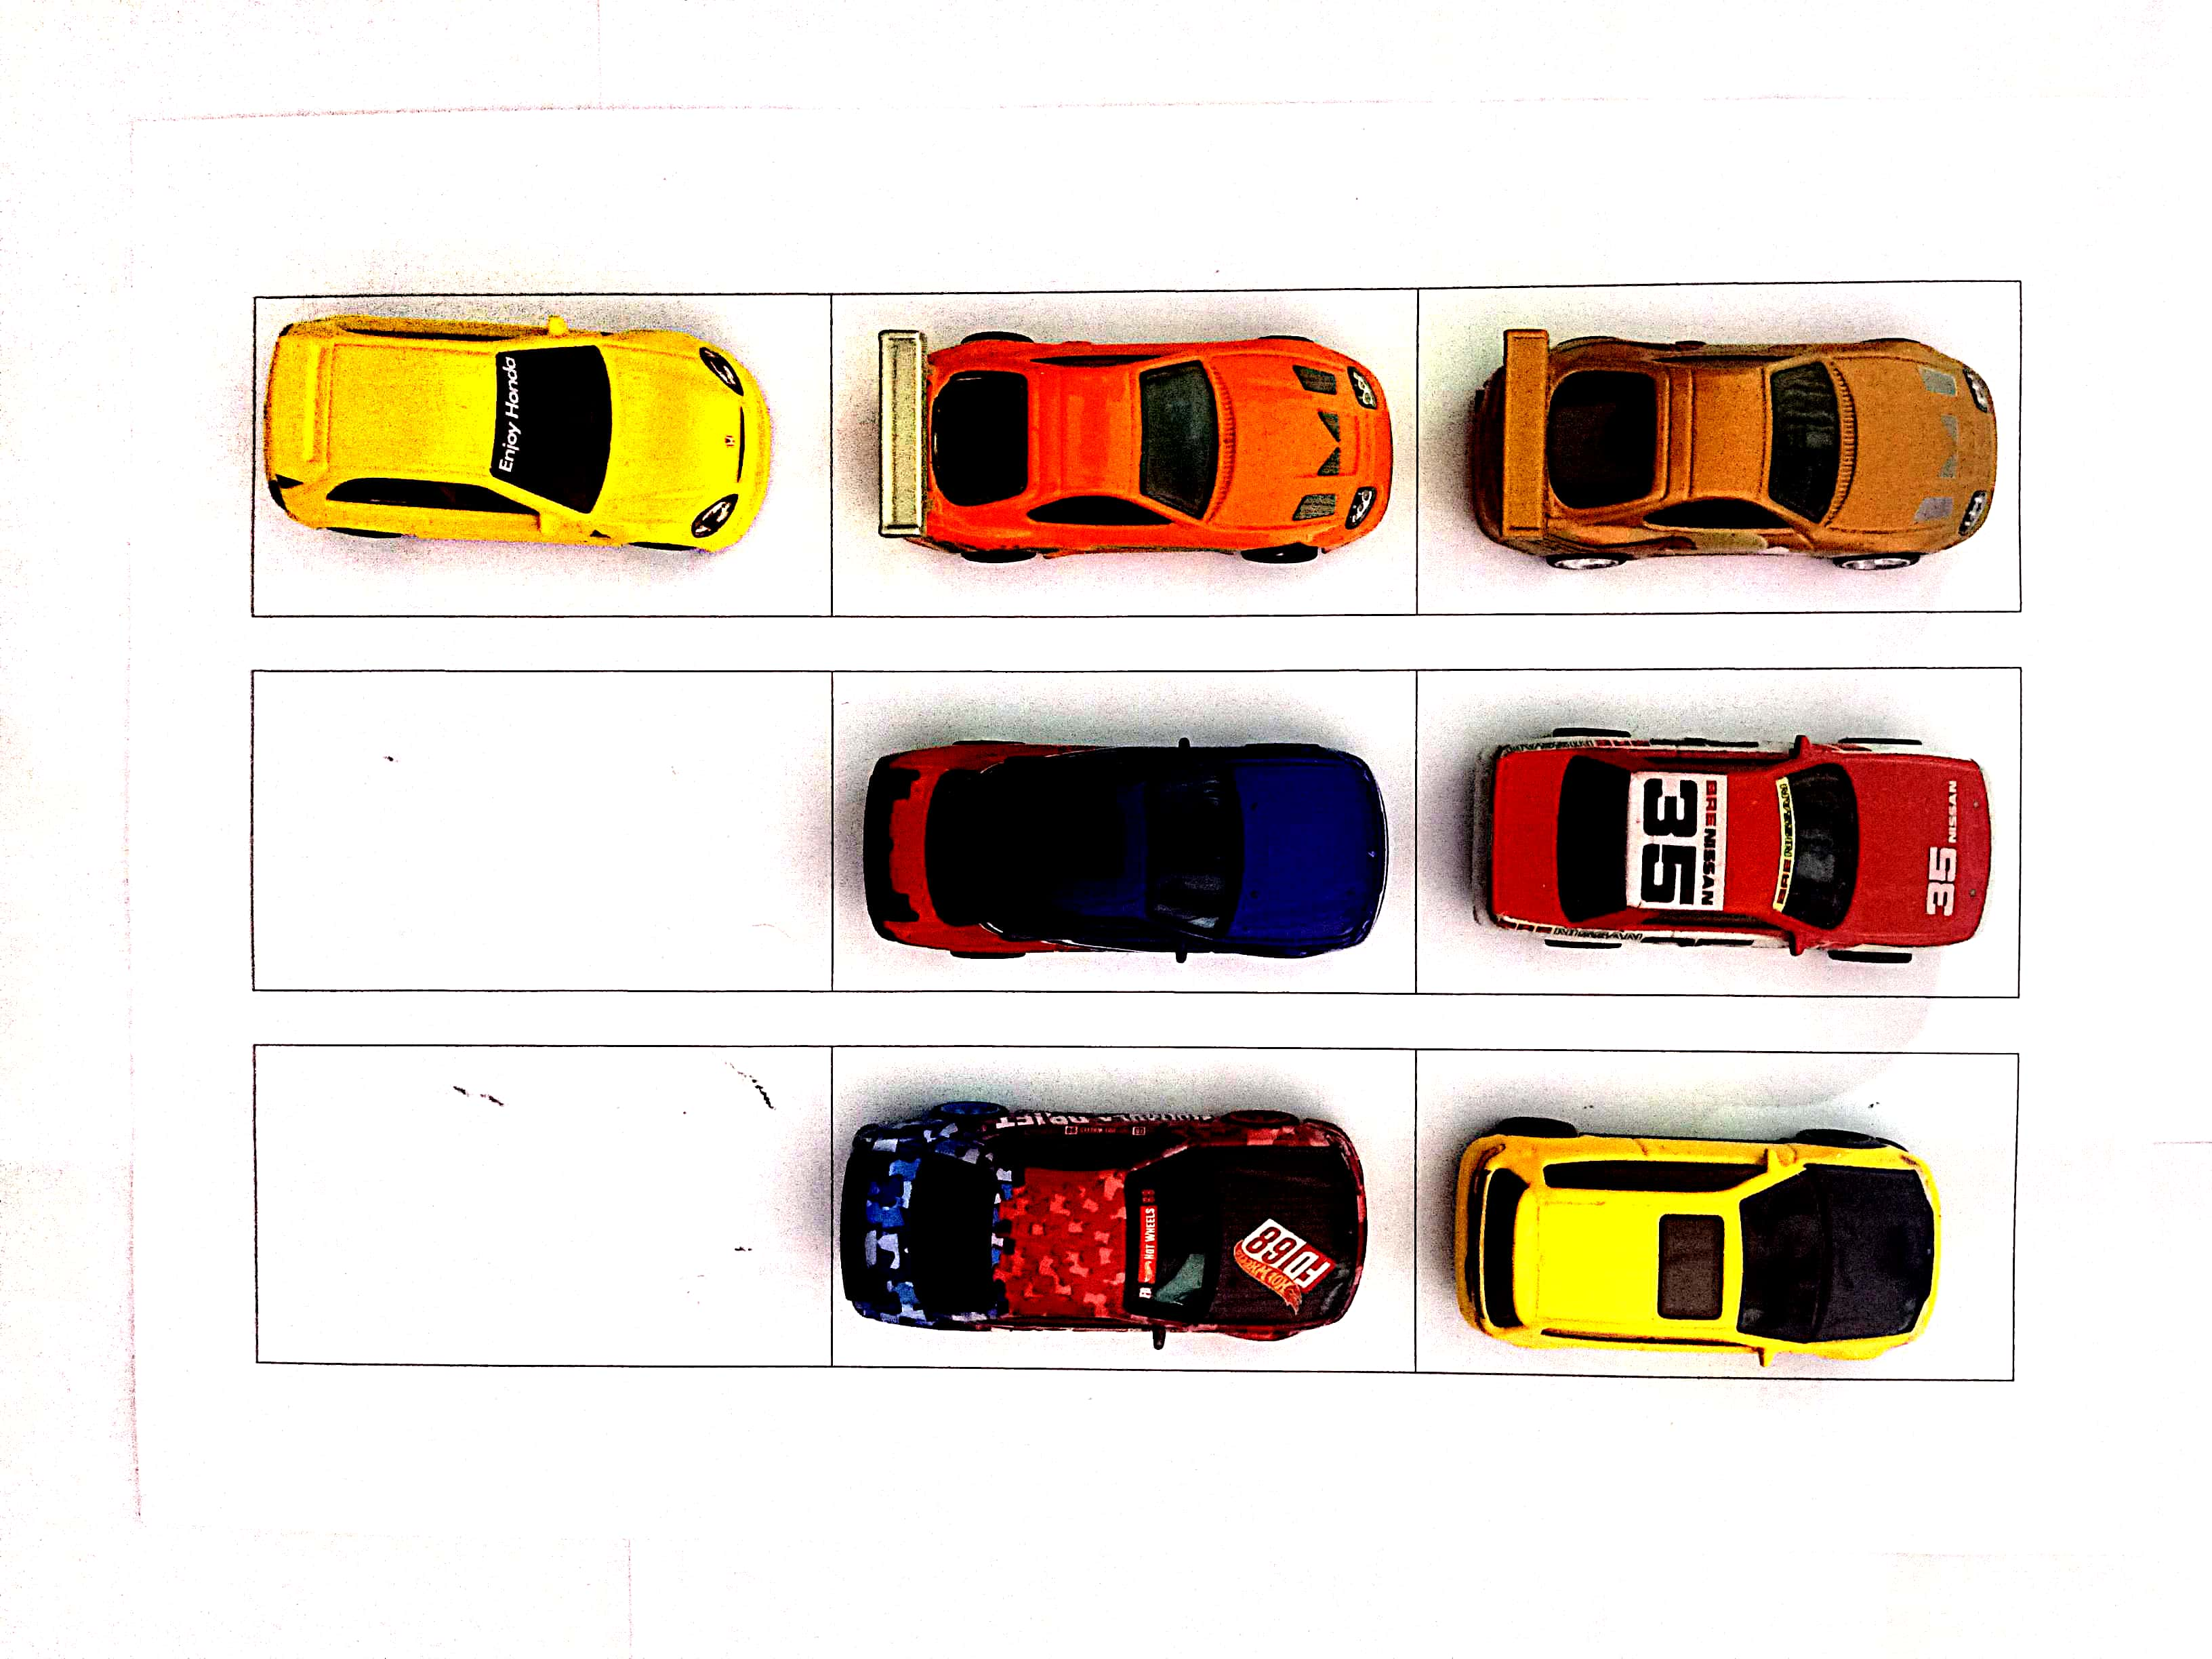Busy: (1414, 286, 2024, 617), (1418, 1049, 2012, 1375), (838, 1042, 1418, 1373), (1418, 676, 2017, 995), (254, 286, 827, 619), (831, 673, 1418, 995), (831, 289, 1414, 610)
Free: (247, 669, 834, 992), (251, 1042, 827, 1366)
